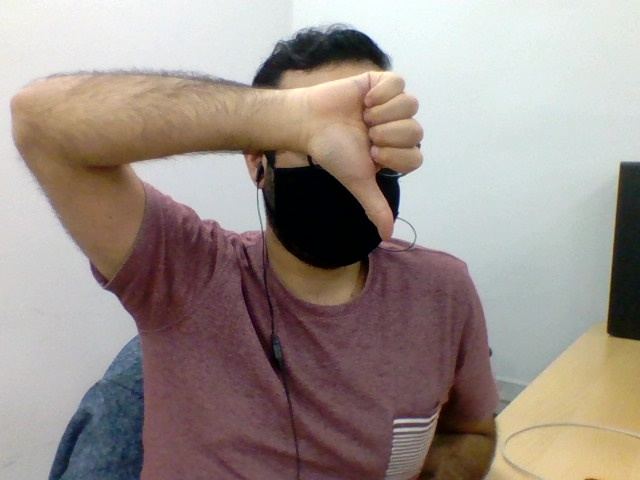ThumbsDown: (299, 69, 423, 243)
